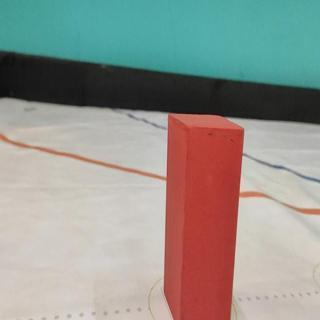redbox: (161, 112, 245, 320)
